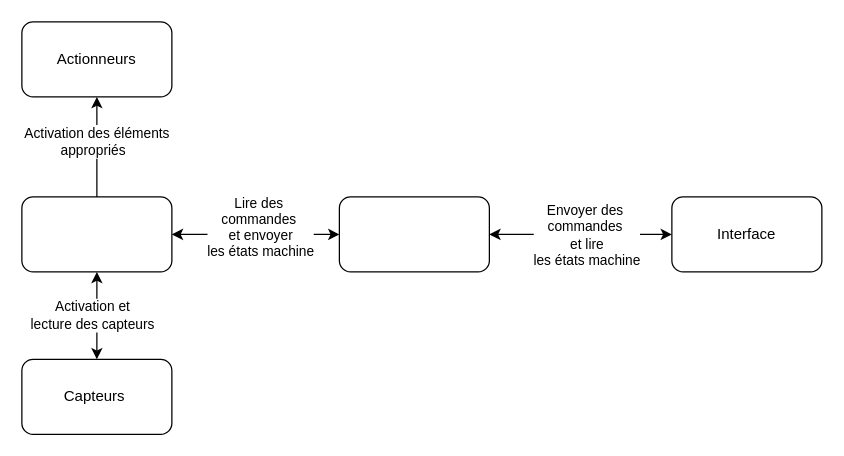
This 844x456 diagram has some shape labels left out. Each missing label, with the centre of its shape:
"Contrôleur" goes at (96,234).
"DataModel" goes at (413,234).
